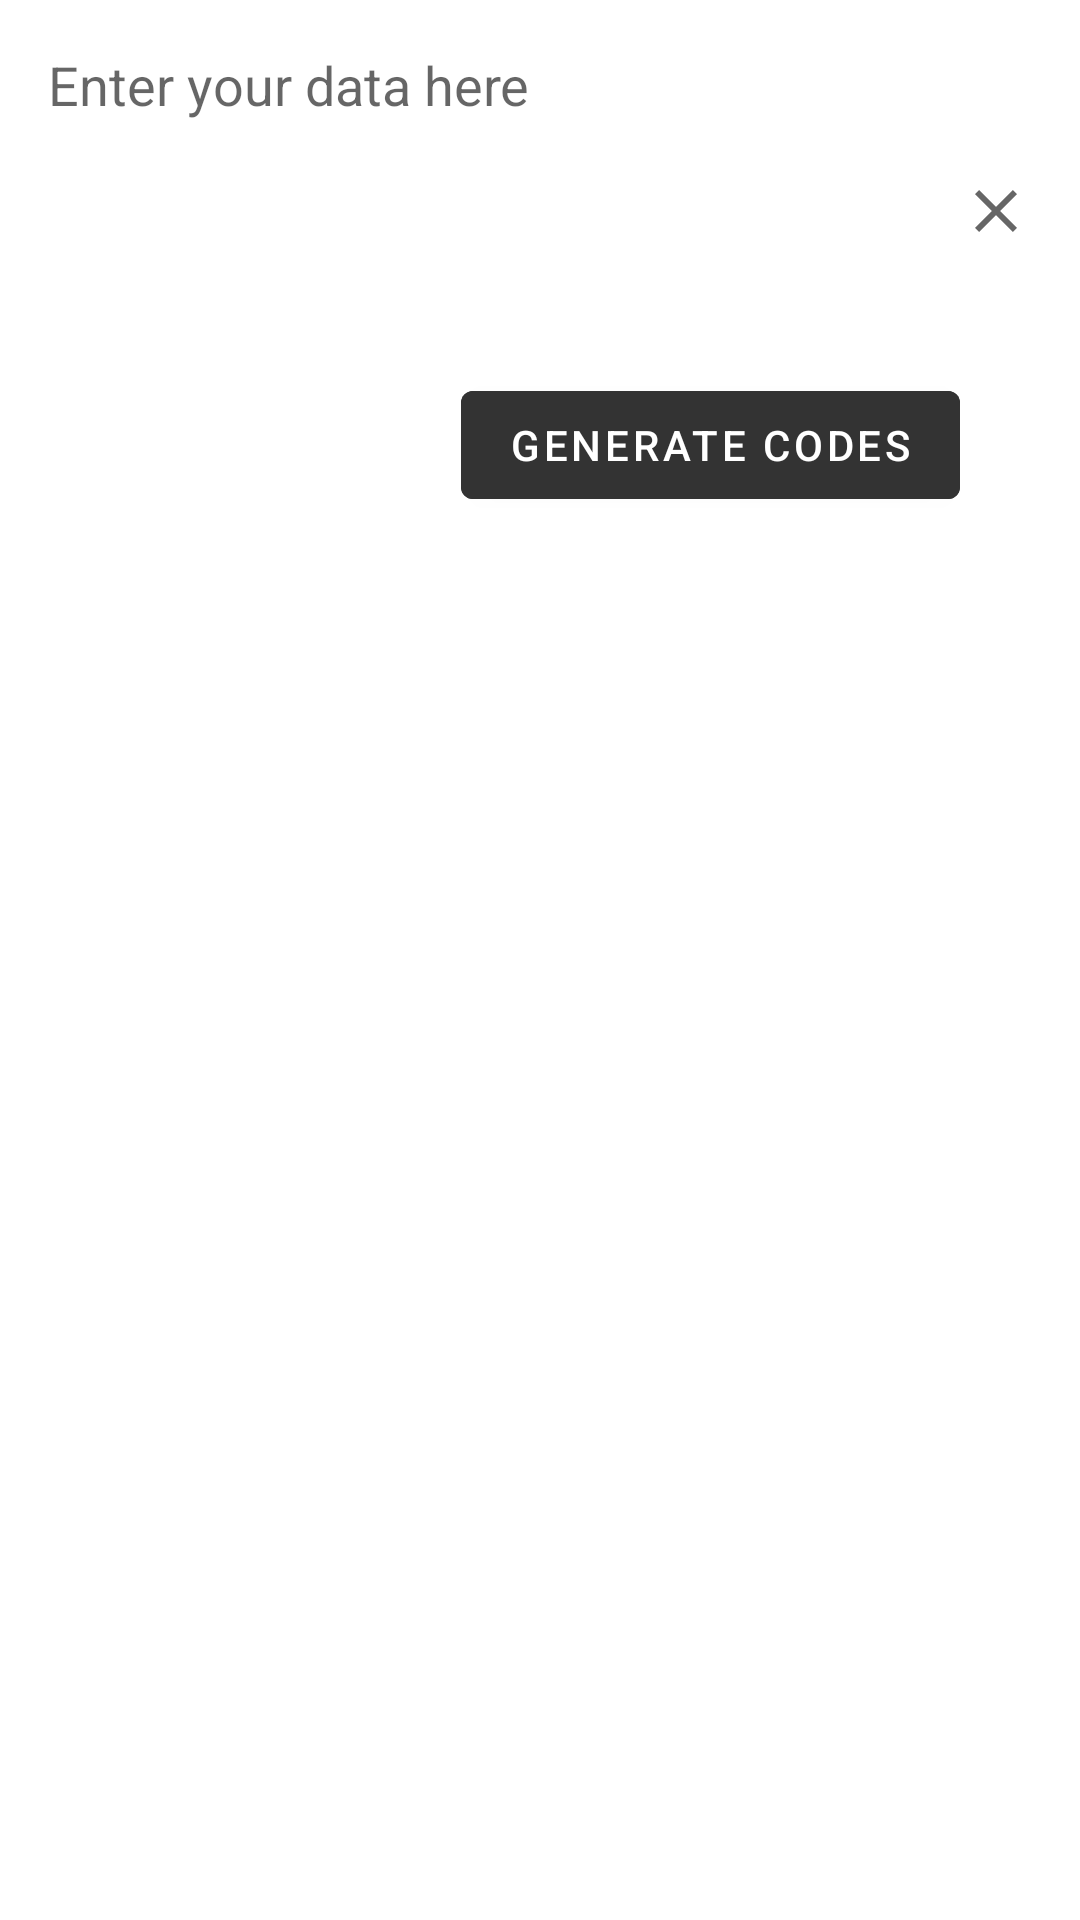

Named icons in this screenshot (1080×1920) and their bounding boxes, {"left": x1, "top": y1, "right": x2, "bottom": y2}:
clear: {"left": 975, "top": 190, "right": 1017, "bottom": 232}
